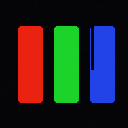4 line_v: (91, 25, 93, 69)
